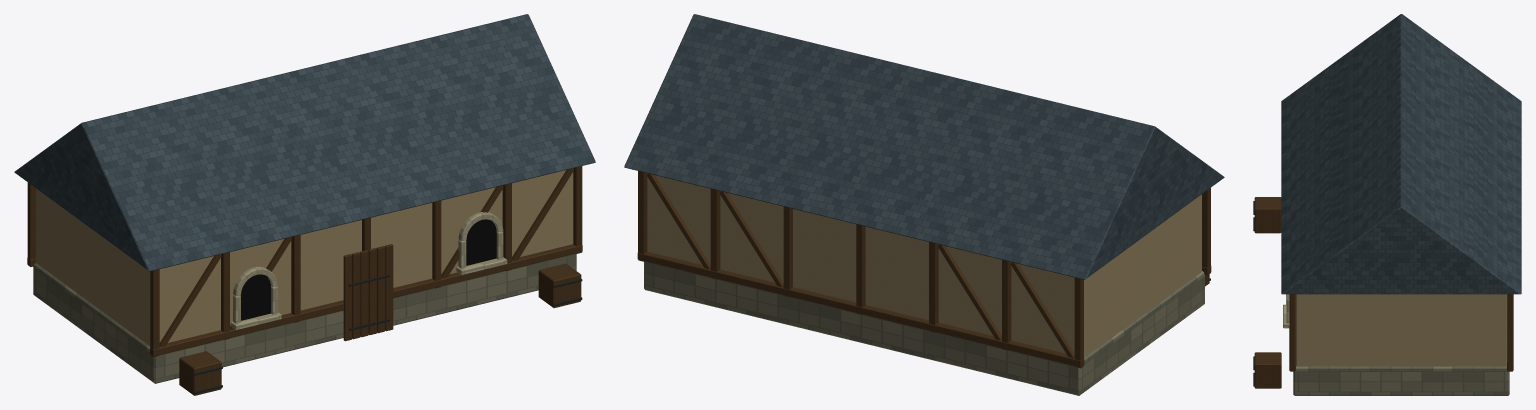
Rendered from service-house-BliVsgC3.glb.
3 renders of one model, left to right at view 1: azimuth 30°, elevation 25°; view 2: azimuth 150°, elevation 25°; view 3: azimuth 270°, elevation 25°, orthographic. The views are drawn at different scales.
Visible parts, largest first — view 1: service-house__SW_slate, service-house__SW_plaster, service-house__SW_wood, service-house__SW_stone, service-house__SW_limestone, service-house__SW_dark, service-house__SW_iron; view 2: service-house__SW_slate, service-house__SW_plaster, service-house__SW_stone, service-house__SW_wood; view 3: service-house__SW_slate, service-house__SW_plaster, service-house__SW_stone, service-house__SW_wood.
Part boxes in pixels (<box>): service-house__SW_slate: <box>14,14,595,271</box>; service-house__SW_plaster: <box>36,168,573,346</box>; service-house__SW_wood: <box>27,166,582,395</box>; service-house__SW_stone: <box>33,253,576,383</box>; service-house__SW_limestone: <box>230,212,507,329</box>; service-house__SW_dark: <box>240,219,496,320</box>; service-house__SW_iron: <box>194,274,582,394</box>; service-house__SW_slate: <box>624,14,1224,279</box>; service-house__SW_plaster: <box>647,173,1201,357</box>; service-house__SW_stone: <box>644,261,1204,395</box>; service-house__SW_wood: <box>637,171,1211,368</box>; service-house__SW_slate: <box>1281,14,1521,294</box>; service-house__SW_plaster: <box>1295,294,1507,366</box>; service-house__SW_stone: <box>1293,366,1509,395</box>; service-house__SW_wood: <box>1254,197,1513,388</box>.
Bounding box in the file's own units: 12.7 × 5.96 × 7.44.
7 materials, 7 textured.
